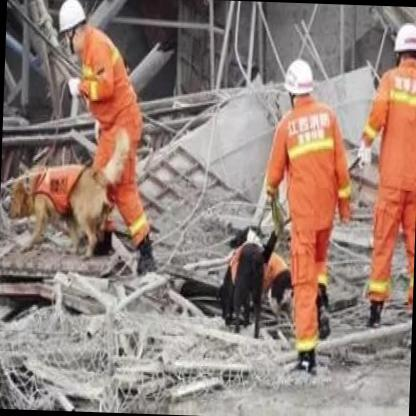helmet: (283, 56, 317, 110), (56, 0, 89, 53), (392, 20, 416, 71)
